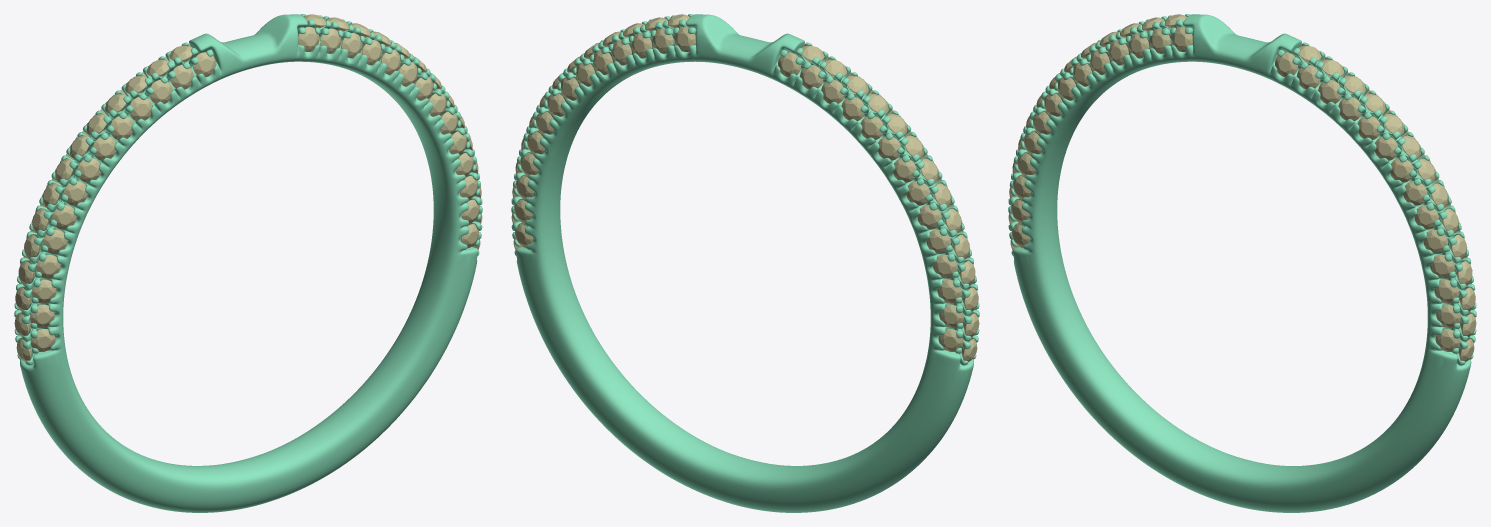
3 renders of one model, left to right at view 1: azimuth 30°, elevation 25°; view 2: azimuth 150°, elevation 25°; view 3: azimuth 330°, elevation 25°, orthographic.
Visible parts, largest first — view 1: Metal02; view 2: Metal02; view 3: Metal02.
Part boxes in pixels (x1,y1,x2,y2): Metal02: (14, 14, 482, 512); Metal02: (511, 14, 979, 512); Metal02: (1008, 14, 1476, 512).
Bounding box in the file's own units: 20.95 × 20.8 × 1.85.
